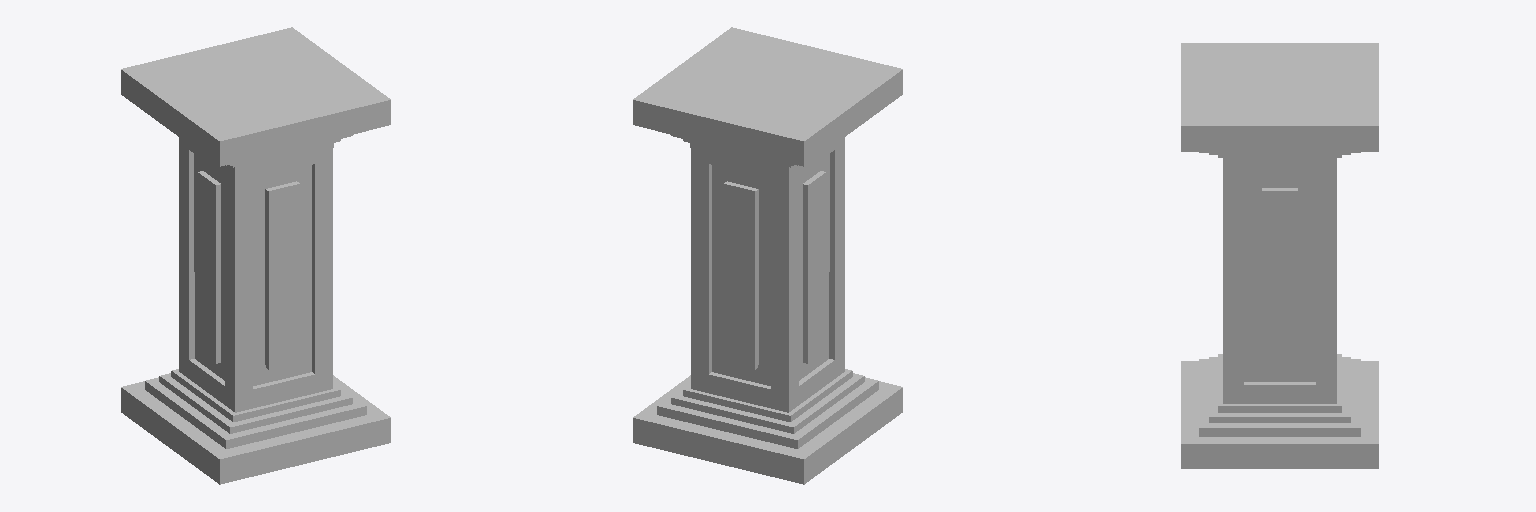
The model's file is Pedestal.obj.
The picture shows the model from 3 angles: view 1: azimuth 30°, elevation 25°; view 2: azimuth 150°, elevation 25°; view 3: azimuth 270°, elevation 25°; orthographic projection.
Parts seen in each view (by area): view 1: Plane001; view 2: Plane001; view 3: Plane001.
Boxes of the visible parts, <box> form: Plane001: <box>121,27,390,484</box>; Plane001: <box>633,27,902,484</box>; Plane001: <box>1181,43,1378,468</box>.
Bounding box in the file's own units: 60.05 × 115 × 60.